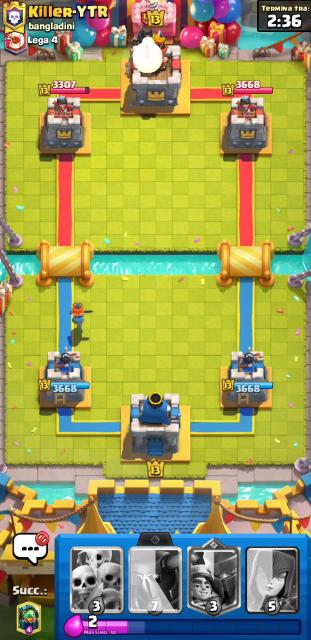ally_melee: (69, 303, 85, 330)
enemy_melee: (132, 10, 165, 48)
